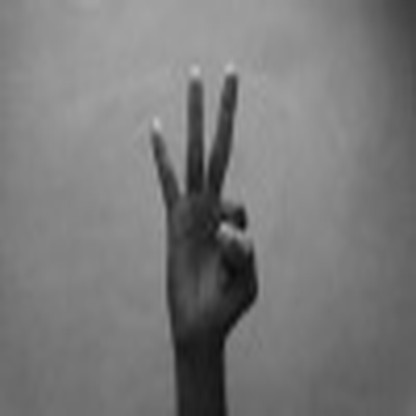f: (130, 51, 272, 331)
